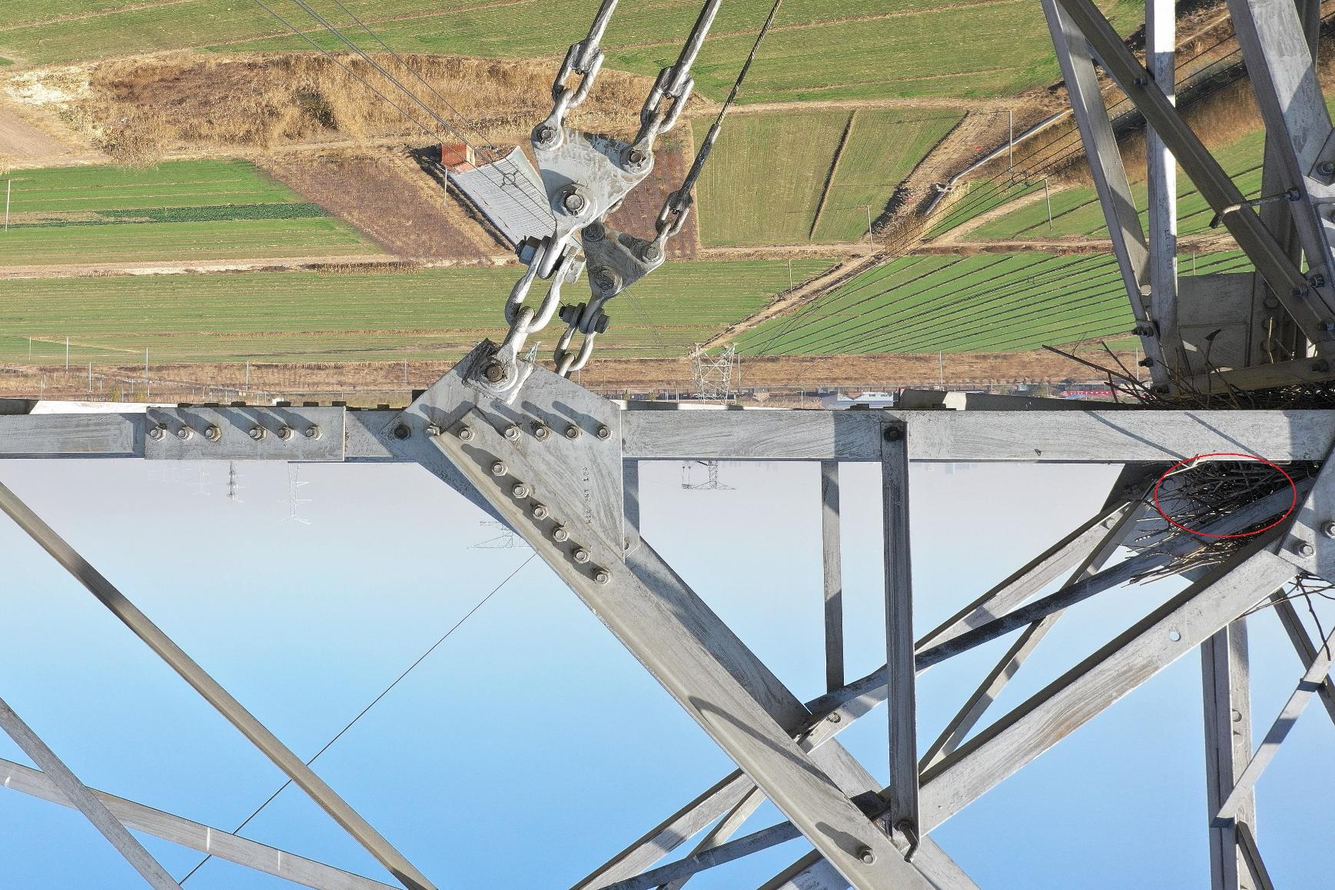nest: (1094, 309, 1323, 589)
